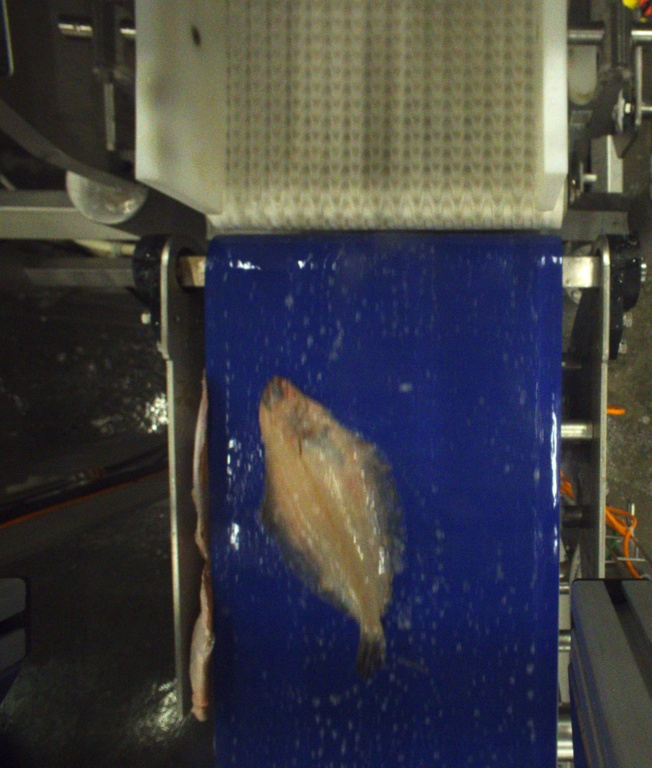WIT: (257, 373, 404, 682)
